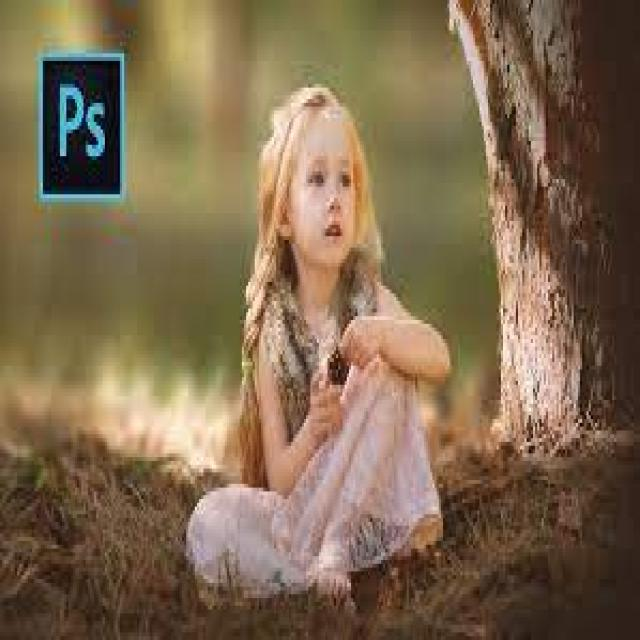Edited images: (186, 59, 439, 629)
